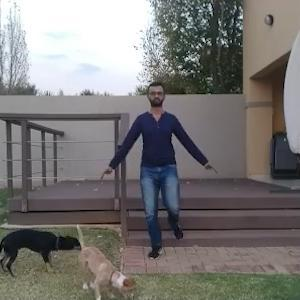land: (119, 91, 201, 244)
